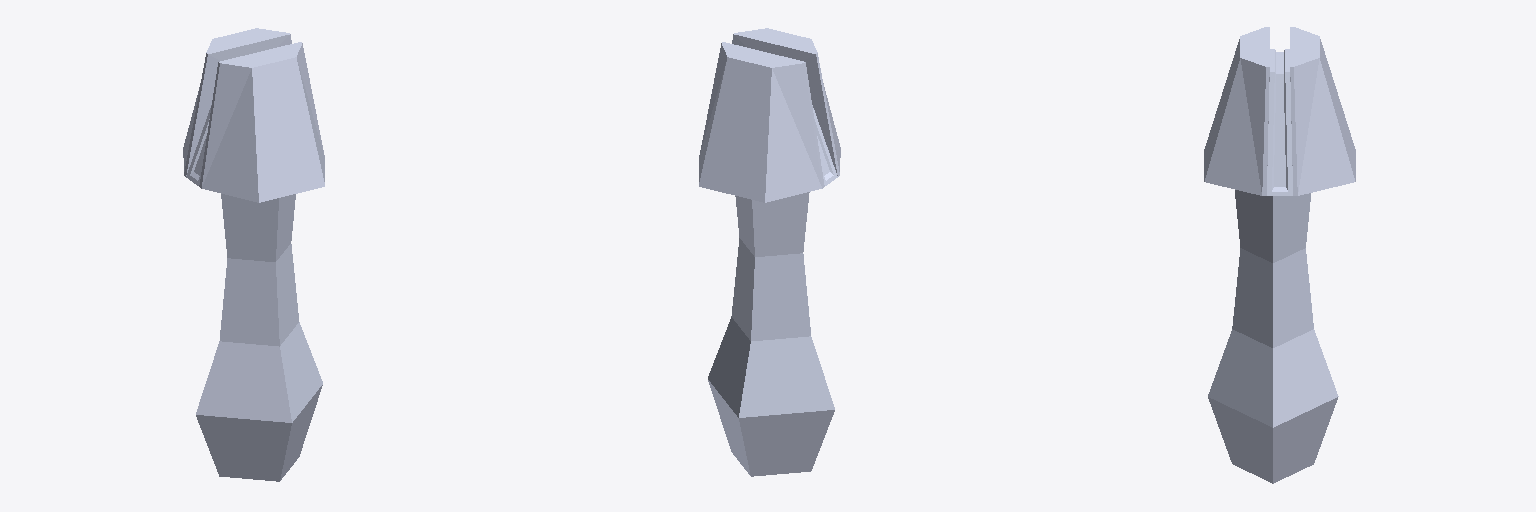
The model's file is Glu.obj.
3 renders of one model, left to right at view 1: azimuth 30°, elevation 25°; view 2: azimuth 150°, elevation 25°; view 3: azimuth 270°, elevation 25°, orthographic.
Visible parts, largest first — view 1: mergedBlocks; view 2: mergedBlocks; view 3: mergedBlocks.
Boxes of the visible parts, x1,y1,x2,y2 form: mergedBlocks: [183, 28, 324, 481]; mergedBlocks: [699, 28, 840, 476]; mergedBlocks: [1204, 27, 1355, 483].
Bounding box in the file's own units: 0.2835 × 0.8824 × 0.2905.